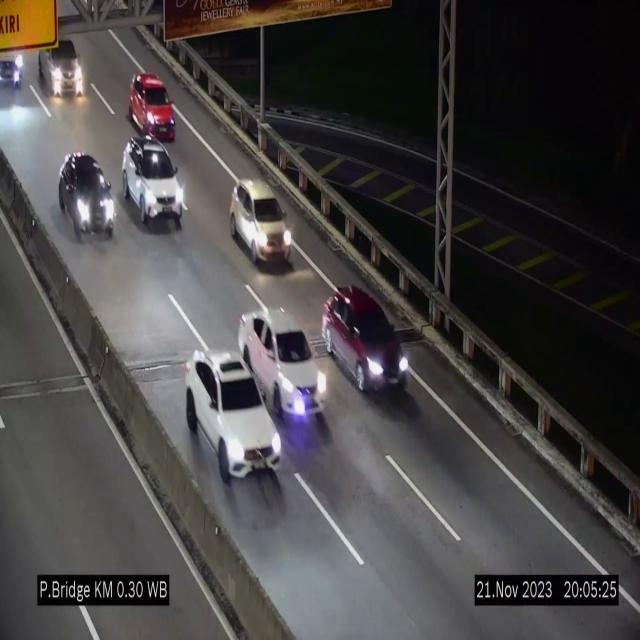Car: (186, 353, 282, 477), (321, 287, 409, 392), (238, 309, 320, 410), (122, 138, 184, 228), (230, 178, 292, 266), (58, 154, 116, 239), (40, 33, 86, 103), (129, 72, 175, 139)
